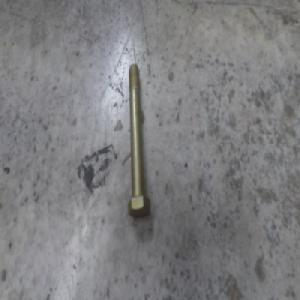Bolt: (126, 63, 151, 215)
